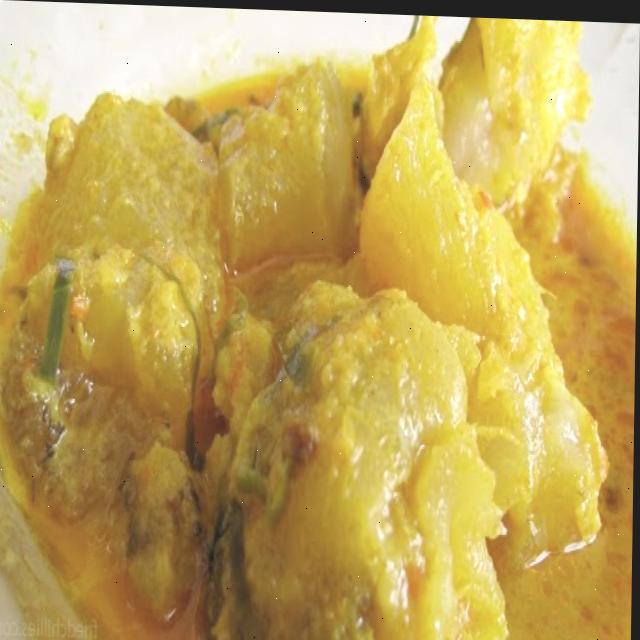熟制海鲜: (0, 4, 633, 640)
